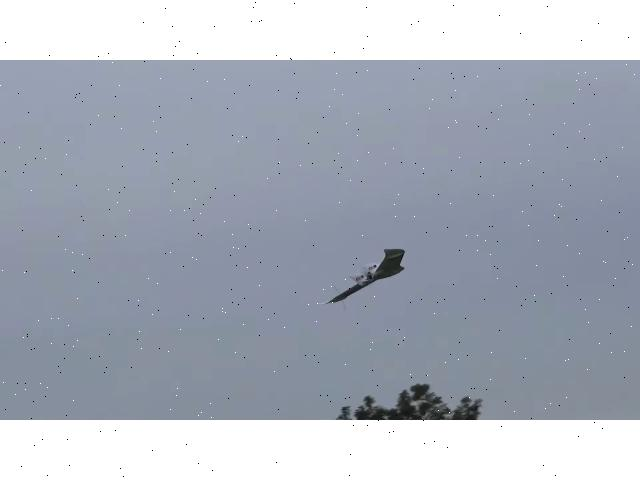Anti-Drone: (320, 250, 406, 304)
